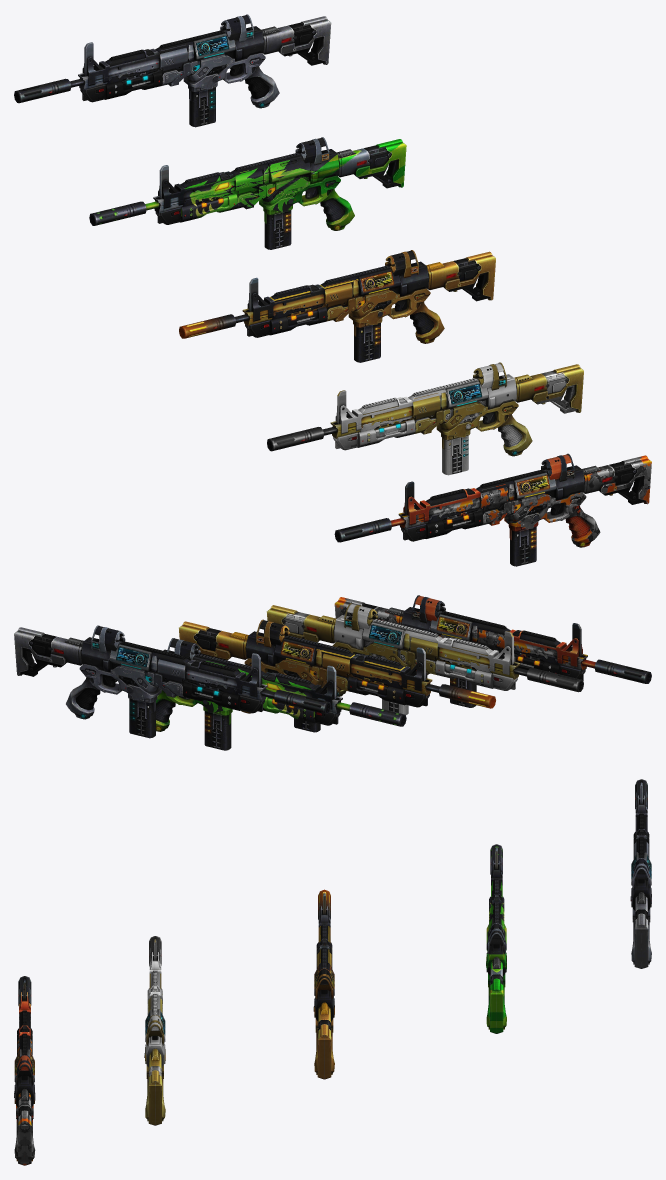
The model's file is scar.obj.
3 views of the same model, one above another, from view 1: azimuth 30°, elevation 25°; view 2: azimuth 150°, elevation 25°; view 3: azimuth 270°, elevation 25° (orthographic). The views are drawn at different scales.
Parts seen in each view (by area): view 1: ST_SCAR_Future_0.001, ST_SCAR_Future_0.004, ST_SCAR_Future_0.002, ST_SCAR_Future_0, ST_SCAR_Future_0.003; view 2: ST_SCAR_Future_0, ST_SCAR_Future_0.002, ST_SCAR_Future_0.003, ST_SCAR_Future_0.004, ST_SCAR_Future_0.001; view 3: ST_SCAR_Future_0.002, ST_SCAR_Future_0, ST_SCAR_Future_0.004, ST_SCAR_Future_0.003, ST_SCAR_Future_0.001.
Boxes of the visible parts, <box> form: ST_SCAR_Future_0.001: <box>89,137,406,249</box>; ST_SCAR_Future_0.004: <box>334,453,651,566</box>; ST_SCAR_Future_0.002: <box>179,250,495,362</box>; ST_SCAR_Future_0: <box>14,14,331,127</box>; ST_SCAR_Future_0.003: <box>267,362,583,475</box>; ST_SCAR_Future_0: <box>14,625,331,738</box>; ST_SCAR_Future_0.002: <box>179,619,495,732</box>; ST_SCAR_Future_0.003: <box>266,603,583,714</box>; ST_SCAR_Future_0.004: <box>334,595,651,707</box>; ST_SCAR_Future_0.001: <box>114,638,406,750</box>; ST_SCAR_Future_0.002: <box>313,889,334,1079</box>; ST_SCAR_Future_0: <box>630,779,651,968</box>; ST_SCAR_Future_0.004: <box>14,976,35,1165</box>; ST_SCAR_Future_0.003: <box>144,936,165,1125</box>; ST_SCAR_Future_0.001: <box>486,844,506,1033</box>.
Bounding box in the file's own units: 1.66 × 1.6 × 3.08.
